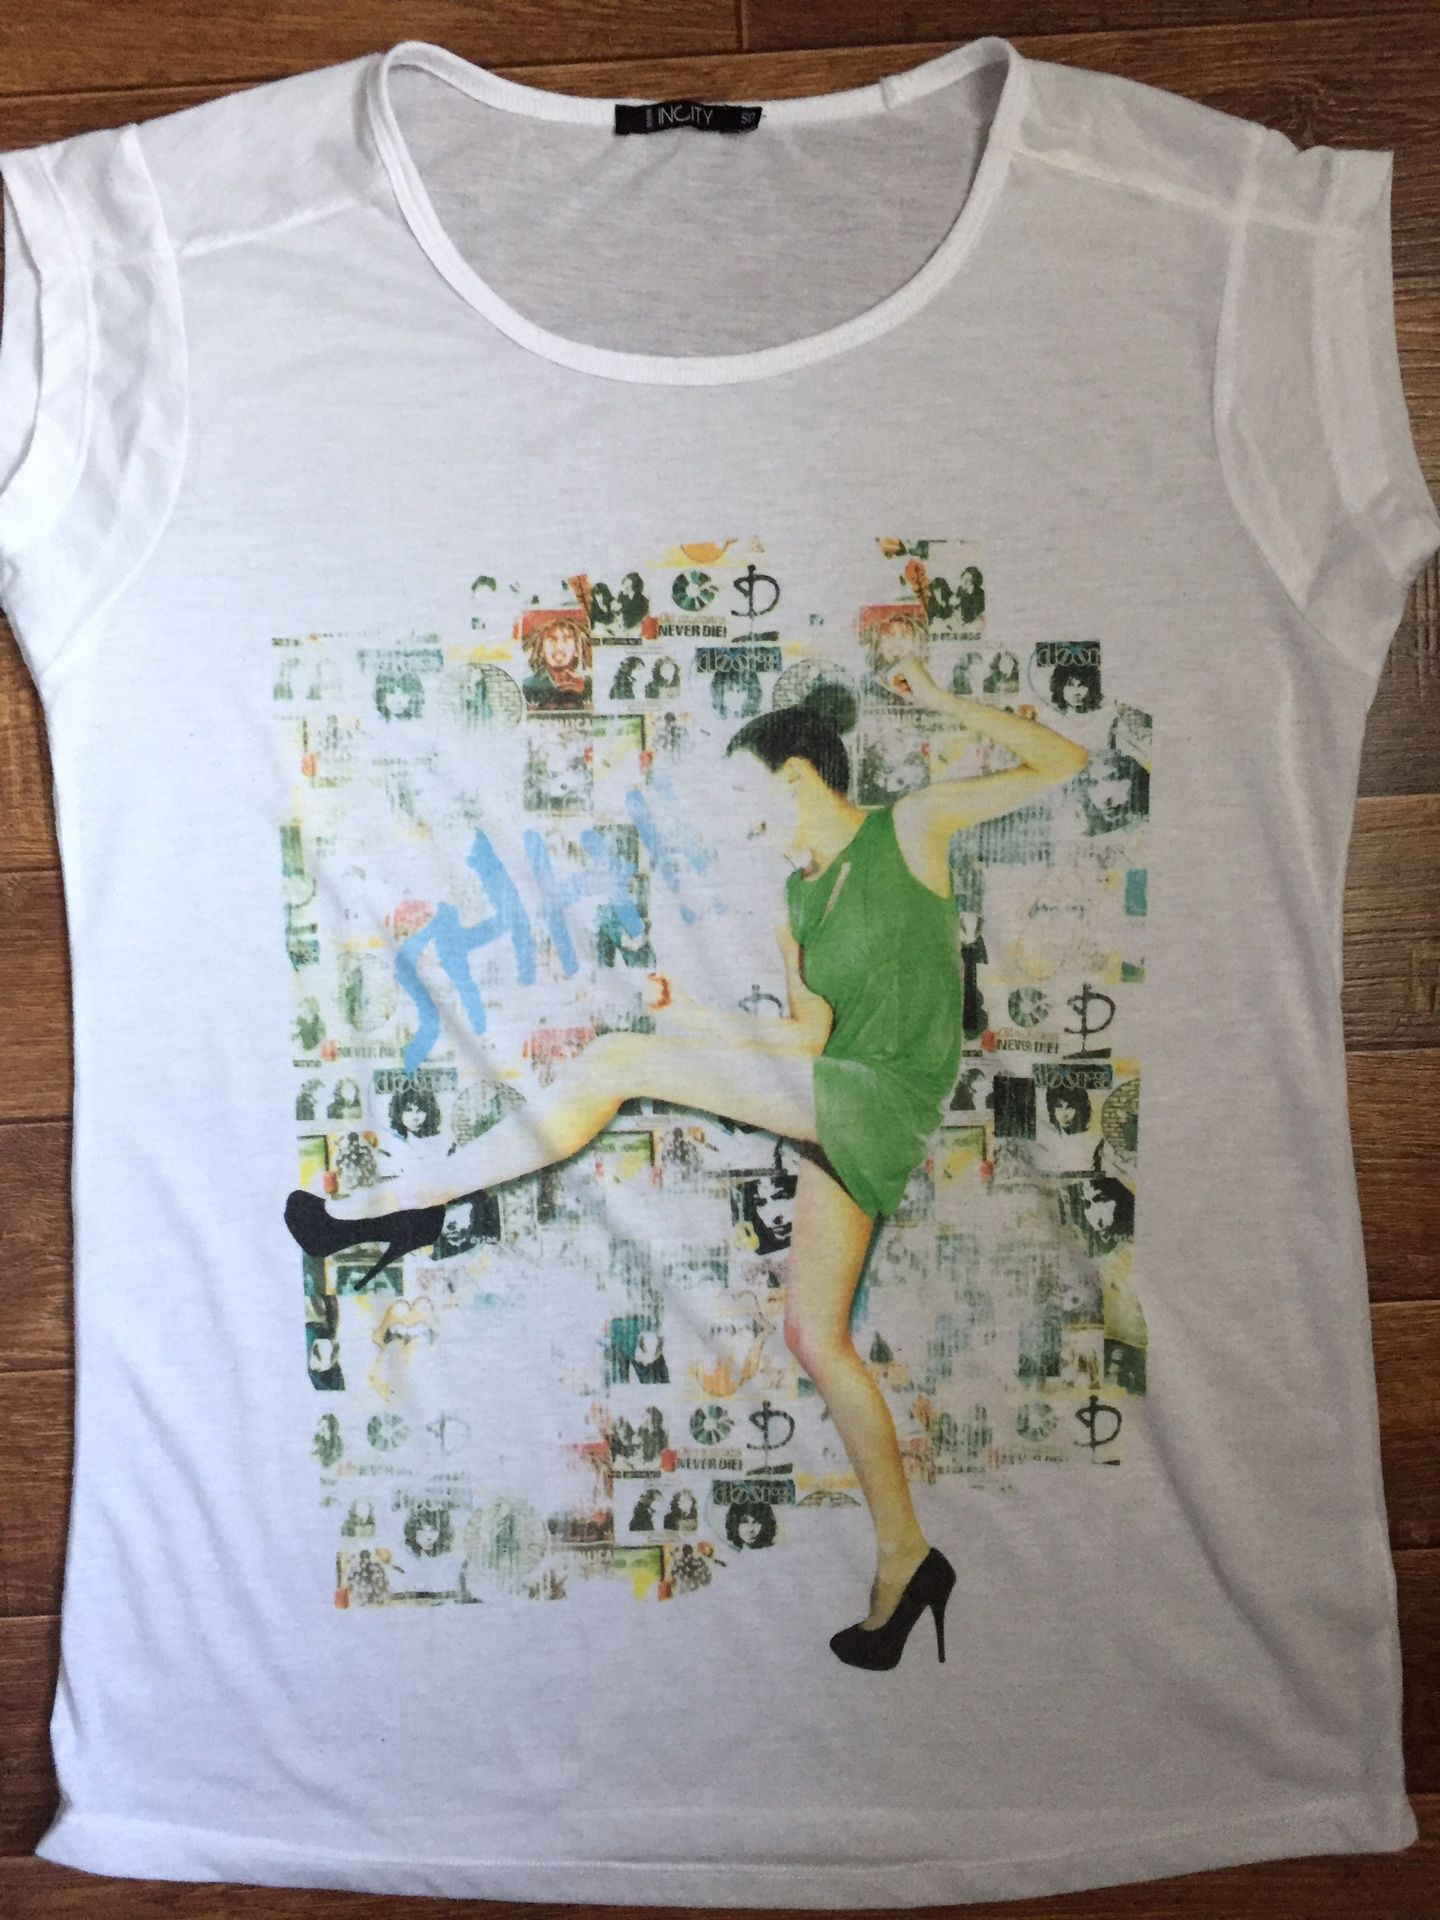clothes: (5, 26, 1420, 1884)
